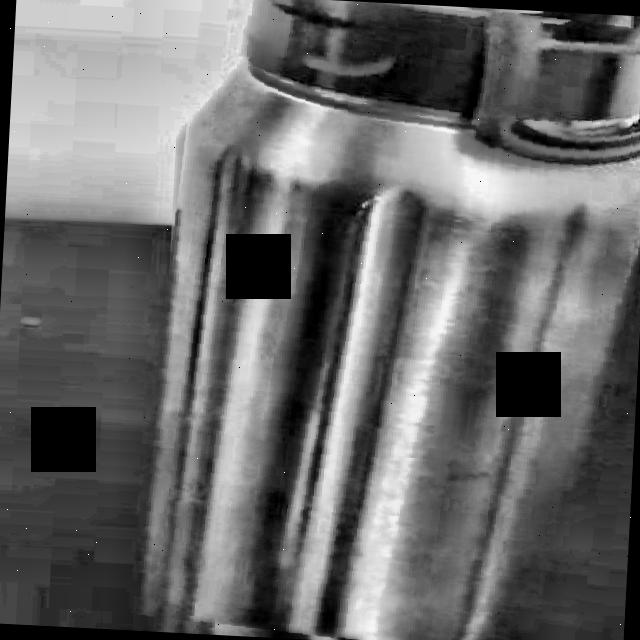bottle: (133, 0, 640, 640)
